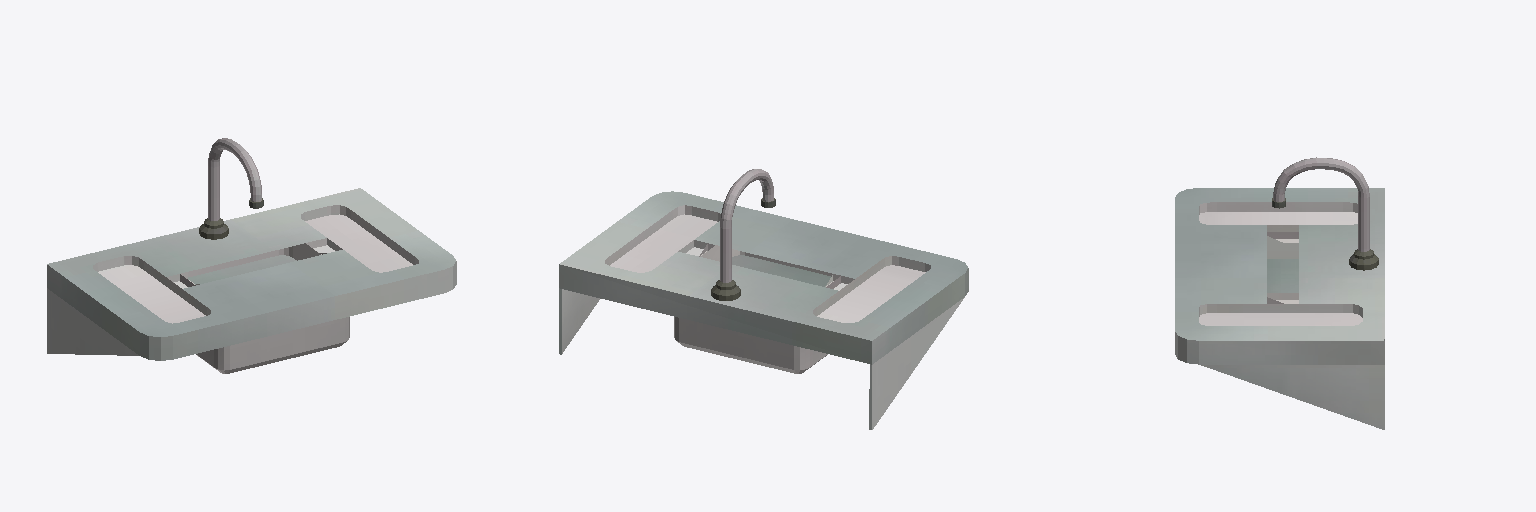
3 renders of one model, left to right at view 1: azimuth 30°, elevation 25°; view 2: azimuth 150°, elevation 25°; view 3: azimuth 270°, elevation 25°, orthographic.
Parts seen in each view (by area): view 1: WardroomSink.obj; view 2: WardroomSink.obj; view 3: WardroomSink.obj.
Part boxes in pixels (x1,y1,x2,y2): WardroomSink.obj: (47,138,456,373); WardroomSink.obj: (559,169,968,429); WardroomSink.obj: (1175,157,1384,429).
Size of the model in its own units: 6.88 by 4.11 by 4.
1 materials, 1 textured.